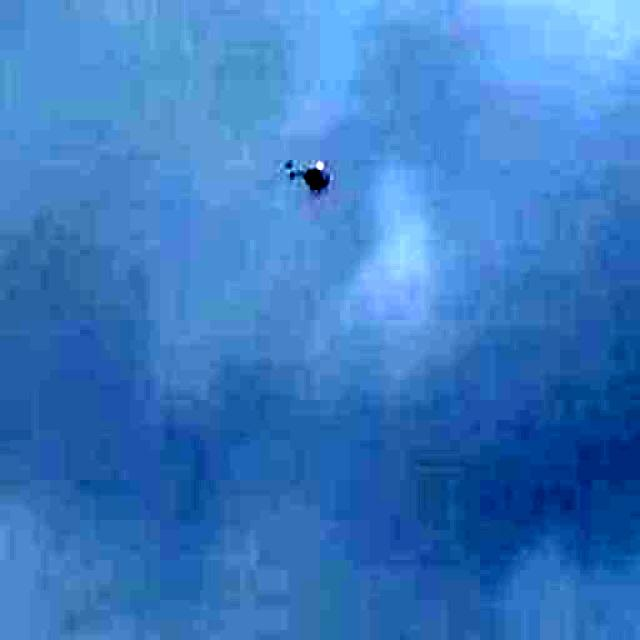drone: (230, 109, 374, 235)
